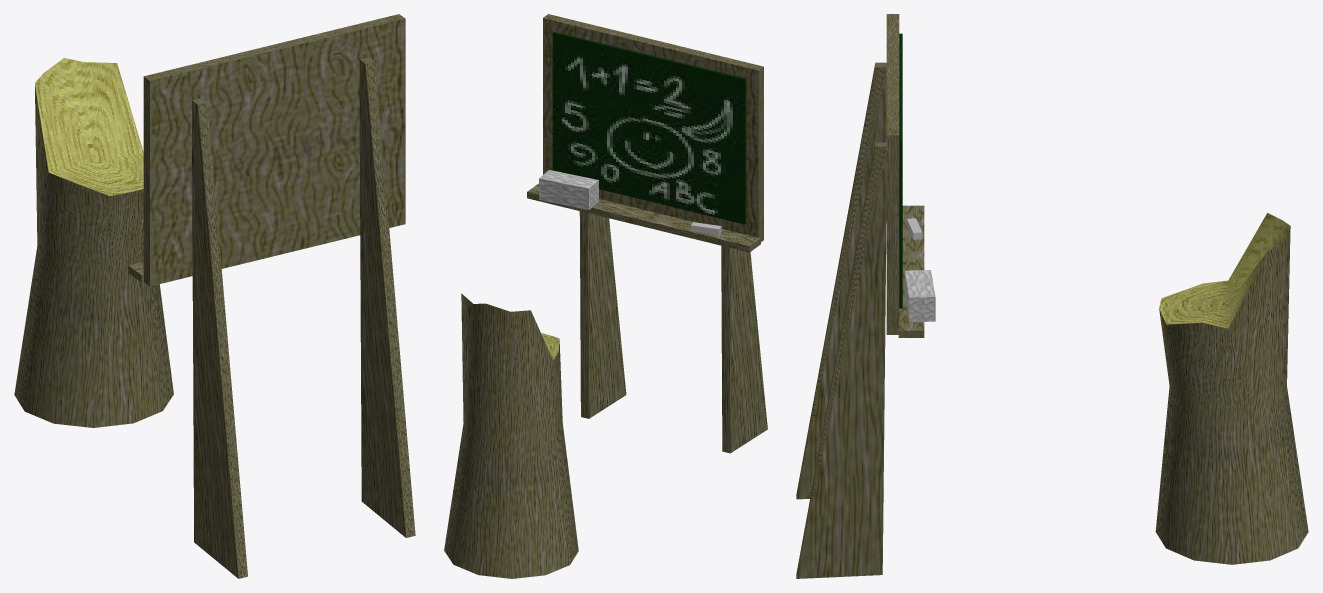
Rendered from monkeyschool.obj.
3 renders of one model, left to right at view 1: azimuth 30°, elevation 25°; view 2: azimuth 150°, elevation 25°; view 3: azimuth 270°, elevation 25°, orthographic. The views are drawn at different scales.
Visible parts, largest first — view 1: Box01, stump, Duplicate01, Box02, stump top; view 2: stump, Box03, Box01, Box02, Duplicate01, Duplicate00, Box05; view 3: stump, Duplicate01, Box02, stump top, Box01, Duplicate00, Box05, Box03.
Part boxes in pixels (bbox=[...]): Box01: bbox=[143, 14, 405, 286]; stump: bbox=[14, 85, 173, 427]; Duplicate01: bbox=[359, 57, 415, 537]; Box02: bbox=[192, 98, 247, 578]; stump top: bbox=[35, 58, 143, 195]; stump: bbox=[444, 293, 578, 578]; Box03: bbox=[552, 31, 746, 224]; Box01: bbox=[543, 14, 763, 241]; Box02: bbox=[721, 245, 767, 453]; Duplicate01: bbox=[579, 211, 626, 418]; Duplicate00: bbox=[527, 183, 760, 252]; Box05: bbox=[539, 170, 598, 209]; stump: bbox=[1155, 226, 1308, 564]; Duplicate01: bbox=[796, 142, 886, 578]; Box02: bbox=[796, 62, 886, 499]; stump top: bbox=[1159, 213, 1290, 328]; Box01: bbox=[886, 14, 899, 334]; Duplicate00: bbox=[898, 205, 924, 337]; Box05: bbox=[904, 270, 935, 321]; Box03: bbox=[899, 33, 902, 308].
Bounding box in the file's own units: 16.09 × 27.64 × 27.84.
